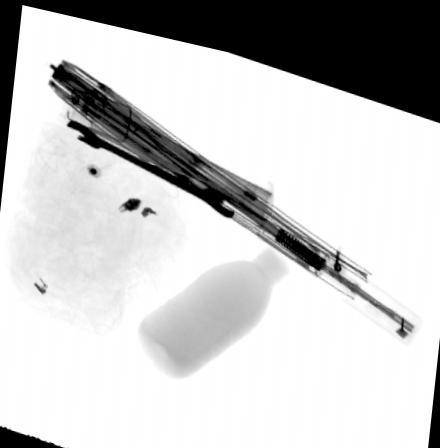Wrench: (65, 113, 236, 209)
